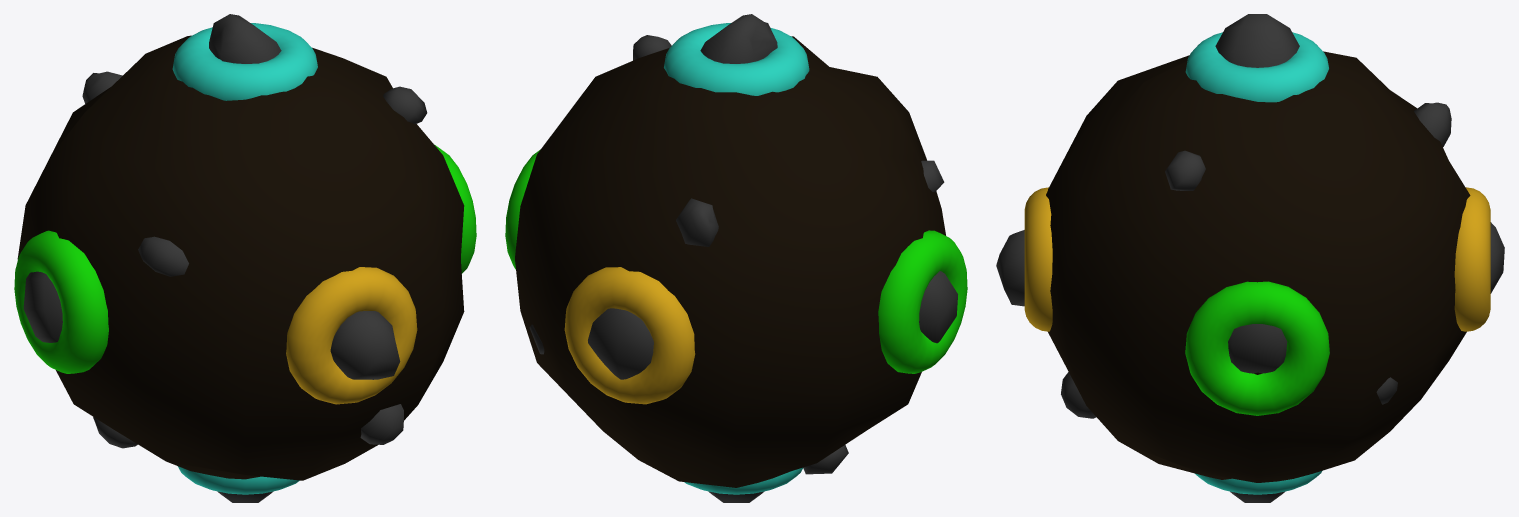
The model's file is Katamari-Ball-Dung.fbx.
3 renders of one model, left to right at view 1: azimuth 30°, elevation 25°; view 2: azimuth 150°, elevation 25°; view 3: azimuth 270°, elevation 25°, orthographic.
Visible parts, largest first — view 1: Sphere; view 2: Sphere; view 3: Sphere.
Boxes of the visible parts, x1,y1,x2,y2 form: Sphere: (14, 14, 476, 502); Sphere: (505, 14, 967, 502); Sphere: (996, 14, 1504, 502).
Size of the model in its own units: 217 by 231 by 241.
